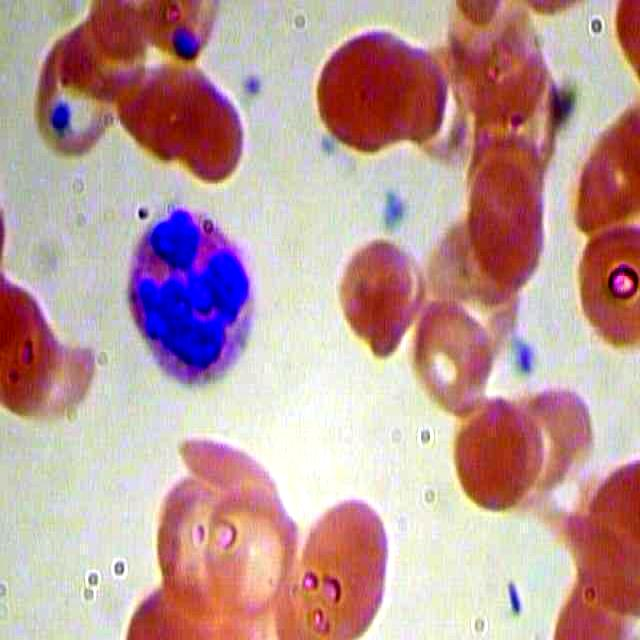Platelets: (170, 20, 202, 73), (376, 189, 411, 232), (511, 337, 544, 380), (50, 103, 69, 133)
RBC: (287, 492, 394, 640), (201, 474, 303, 626), (312, 21, 416, 159), (28, 16, 119, 160), (408, 292, 501, 420), (460, 158, 553, 286), (333, 232, 421, 365), (453, 388, 538, 511), (1, 272, 68, 413), (173, 68, 252, 187)
WBC: (104, 198, 275, 402)
